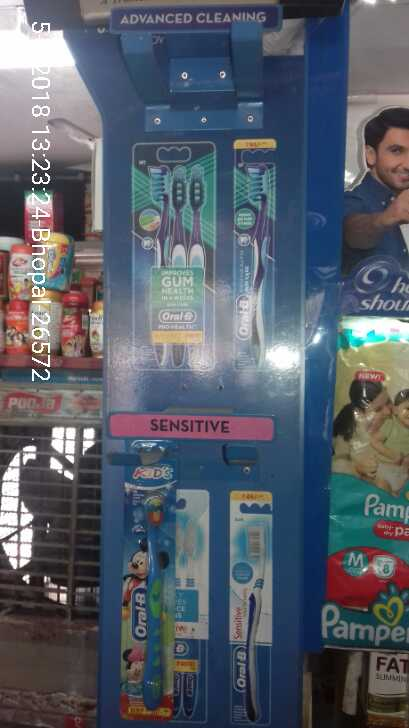oralb: (131, 138, 217, 378), (122, 440, 168, 717), (226, 495, 273, 728), (235, 139, 273, 365)
